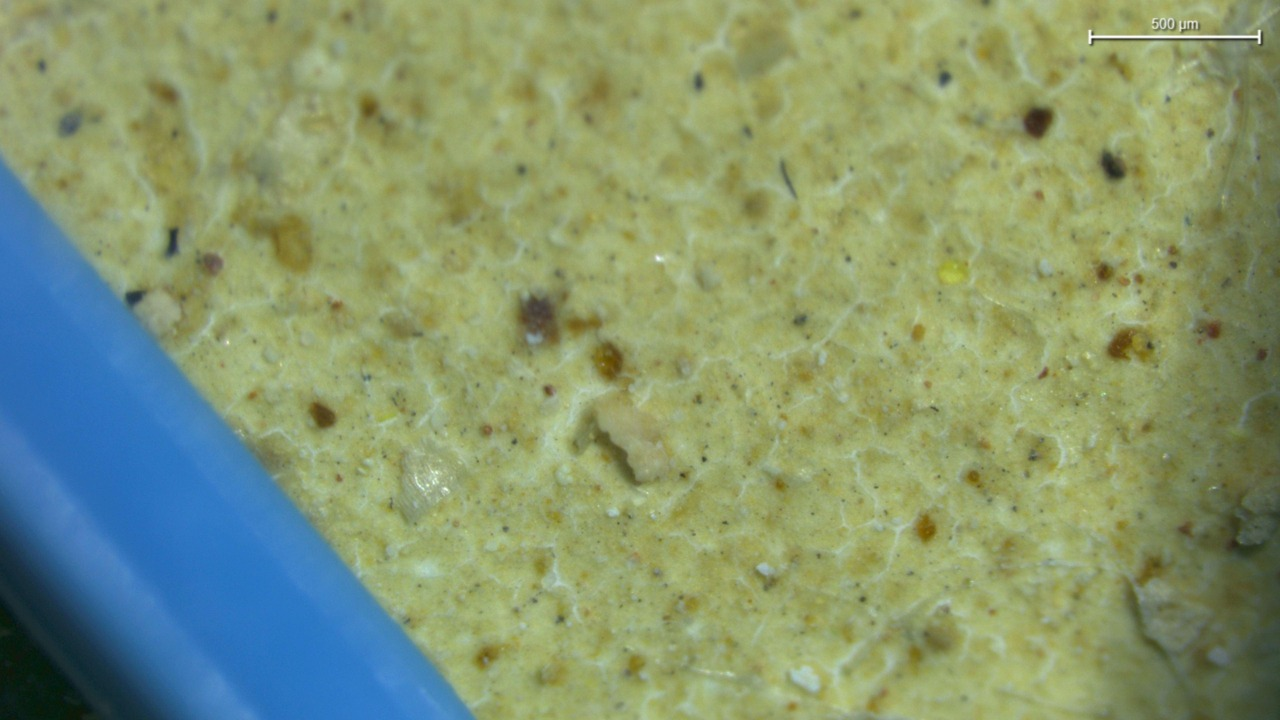microplastic_fragment: (592, 392, 677, 482), (1135, 578, 1213, 654), (398, 441, 465, 523), (1235, 476, 1280, 546)
